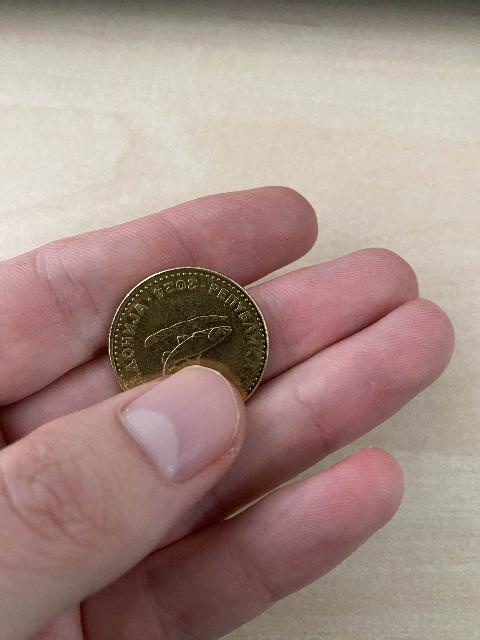coin: (109, 267, 268, 399)
